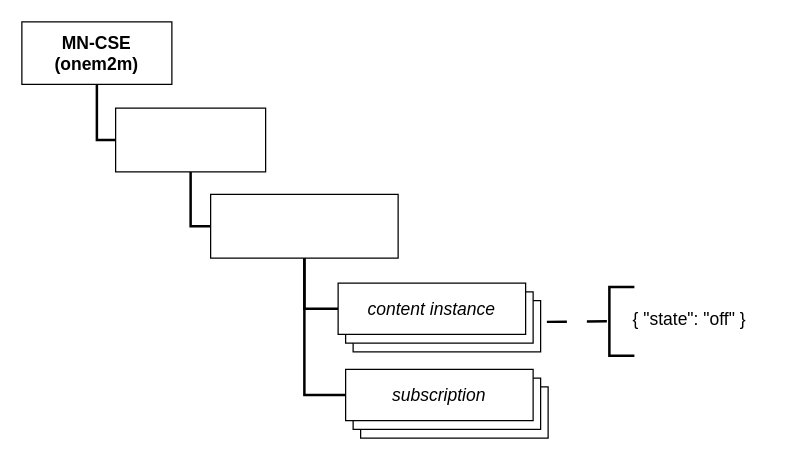
The diagram is 790 pixels wide and 460 high, and some of its shapes have lost their labels. Here are the shapes that lost their labels. From the top down, the box of each, then its label:
(114, 107, 266, 172): AE (lightbulb )
(209, 193, 398, 258): container (state)
